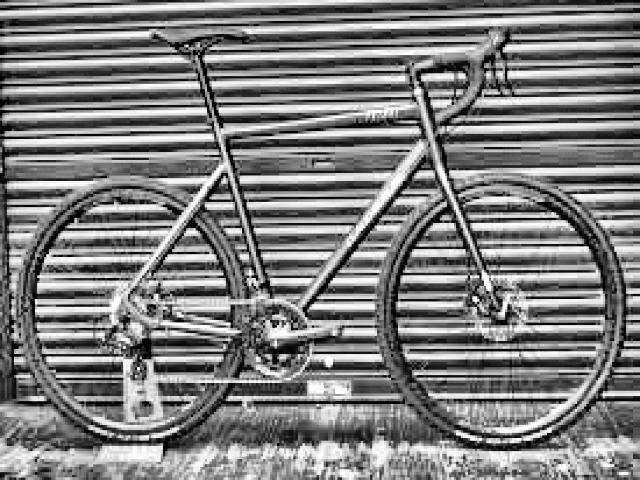cranks_set: (235, 296, 348, 384)
rear_derailleur: (96, 324, 150, 381)
saddle: (151, 24, 252, 54)
sti_shifter: (485, 27, 517, 101)
wheel: (376, 175, 628, 446), (17, 178, 251, 442)
